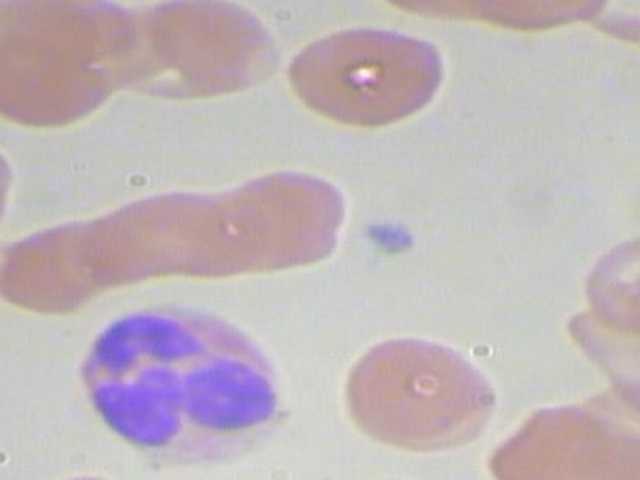Platelets: (356, 219, 427, 260)
RBC: (278, 20, 467, 139), (330, 331, 519, 449), (130, 0, 285, 112), (484, 393, 640, 480), (223, 158, 358, 248), (0, 39, 119, 130), (0, 221, 108, 318), (0, 157, 21, 251)
WBC: (55, 301, 298, 468)
